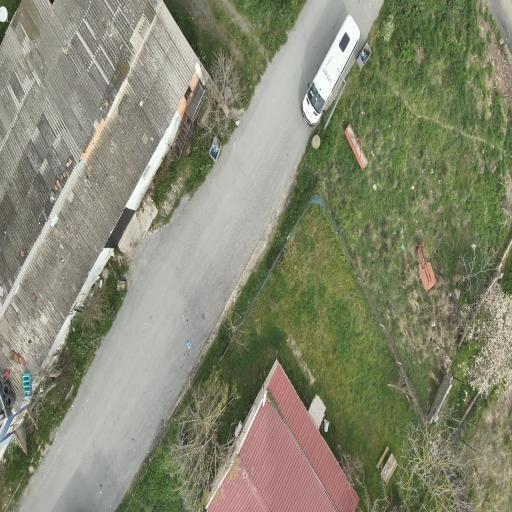car: (303, 16, 360, 126)
